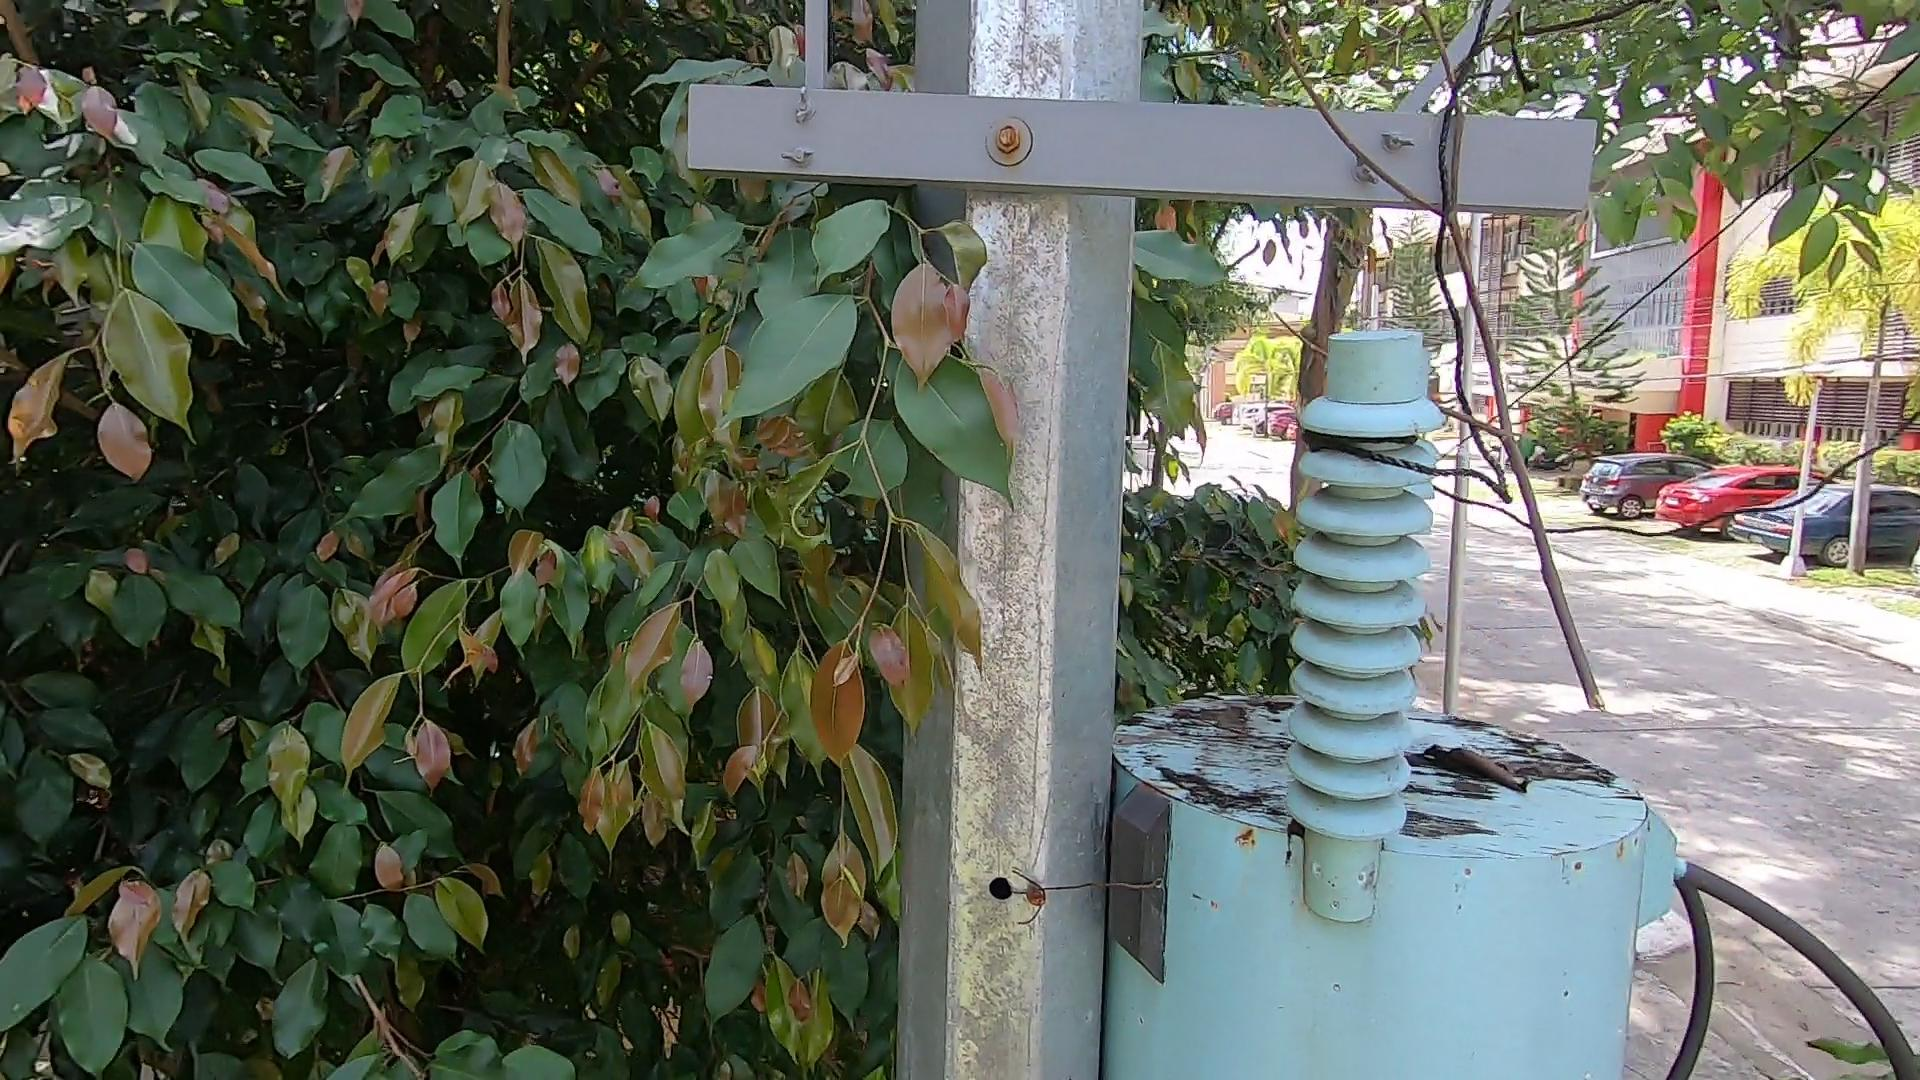leaf: (1425, 728, 1544, 796)
tree branch: (1236, 12, 1658, 719)
